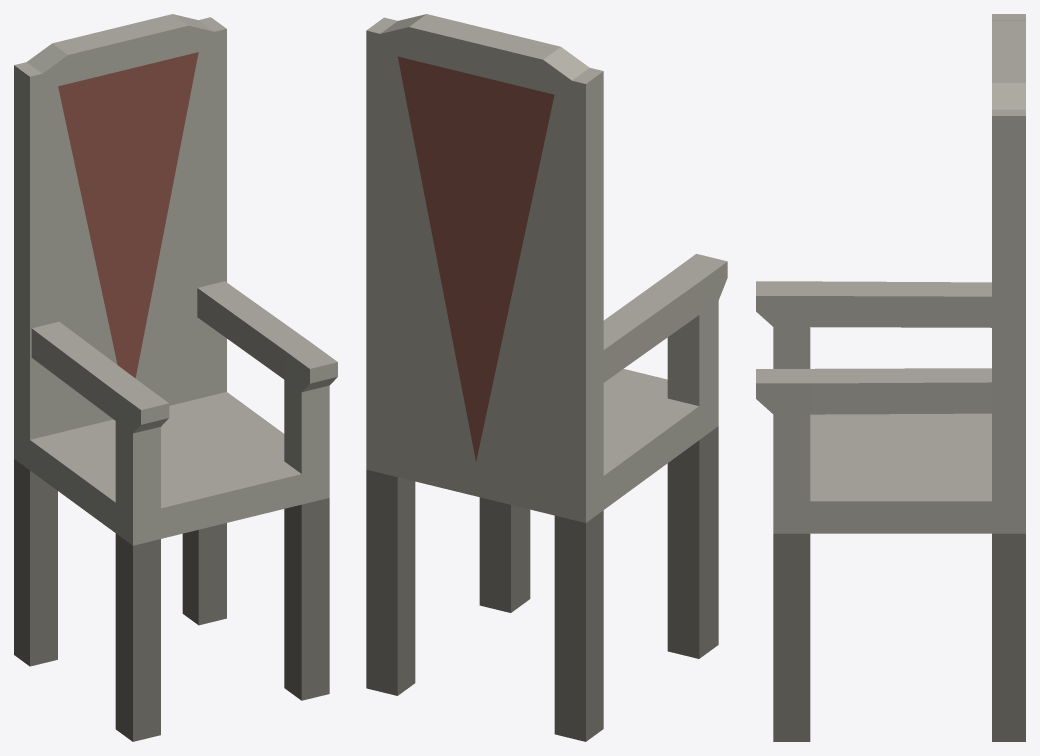
File: Theodosian_Chair_1.glb
3 renders of one model, left to right at view 1: azimuth 30°, elevation 25°; view 2: azimuth 150°, elevation 25°; view 3: azimuth 270°, elevation 25°, orthographic. The views are drawn at different scales.
Parts seen in each view (by area): view 1: Theodosian_Chair_1.001; view 2: Theodosian_Chair_1.001; view 3: Theodosian_Chair_1.001.
Boxes of the visible parts, x1,y1,x2,y2 form: Theodosian_Chair_1.001: [14, 14, 337, 741]; Theodosian_Chair_1.001: [366, 14, 727, 741]; Theodosian_Chair_1.001: [756, 14, 1025, 741].
Bounding box in the file's own units: 2 × 5.85 × 2.24.
